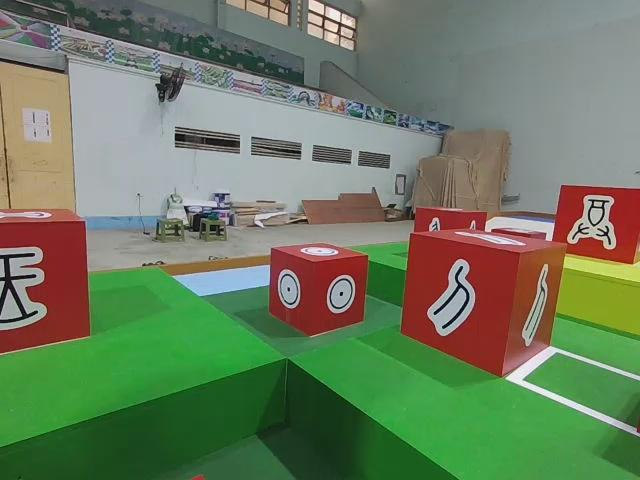R2 Real: (399, 227, 570, 376), (0, 205, 93, 355), (267, 241, 371, 337), (549, 182, 640, 267)
